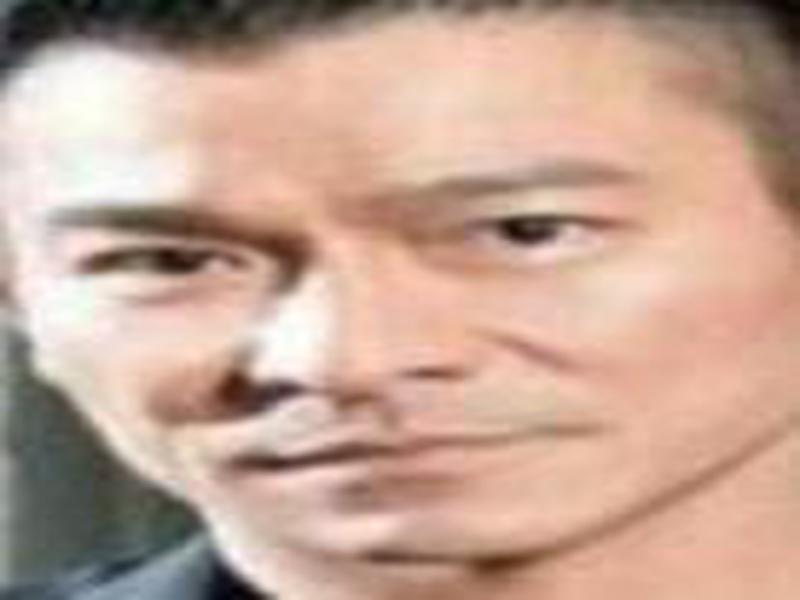without_mask: (4, 82, 776, 557)
